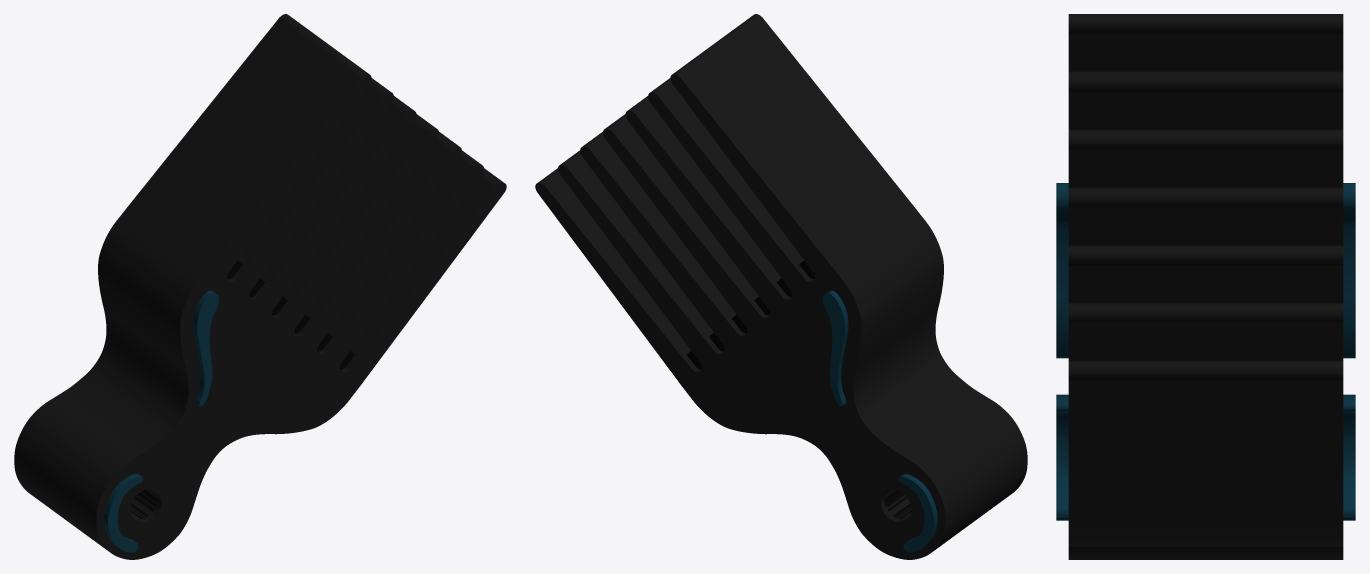
Rendered from U+1FAAE.obj.
3 renders of one model, left to right at view 1: azimuth 30°, elevation 25°; view 2: azimuth 150°, elevation 25°; view 3: azimuth 270°, elevation 25°, orthographic. The views are drawn at different scales.
Visible parts, largest first — view 1: U+1FAAE_layer01_obj00, U+1FAAE_layer02_obj00, U+1FAAE_layer02_obj01, U+1FAAE_layer00_obj00; view 2: U+1FAAE_layer01_obj00, U+1FAAE_layer02_obj00, U+1FAAE_layer02_obj01, U+1FAAE_layer00_obj00; view 3: U+1FAAE_layer01_obj00, U+1FAAE_layer02_obj00, U+1FAAE_layer02_obj01.
Boxes of the visible parts, left/top/right/bottom form: U+1FAAE_layer01_obj00: left=14, top=14, right=506, bottom=559; U+1FAAE_layer02_obj00: left=193, top=290, right=219, bottom=406; U+1FAAE_layer02_obj01: left=104, top=474, right=143, bottom=552; U+1FAAE_layer00_obj00: left=227, top=260, right=355, bottom=369; U+1FAAE_layer01_obj00: left=535, top=14, right=1027, bottom=559; U+1FAAE_layer02_obj00: left=822, top=290, right=848, bottom=406; U+1FAAE_layer02_obj01: left=898, top=474, right=937, bottom=552; U+1FAAE_layer00_obj00: left=686, top=260, right=814, bottom=369; U+1FAAE_layer01_obj00: left=1068, top=14, right=1343, bottom=559; U+1FAAE_layer02_obj00: left=1056, top=183, right=1355, bottom=358; U+1FAAE_layer02_obj01: left=1056, top=394, right=1355, bottom=520.
Bounding box in the file's own units: 0.3172 × 0.3174 × 0.12.
